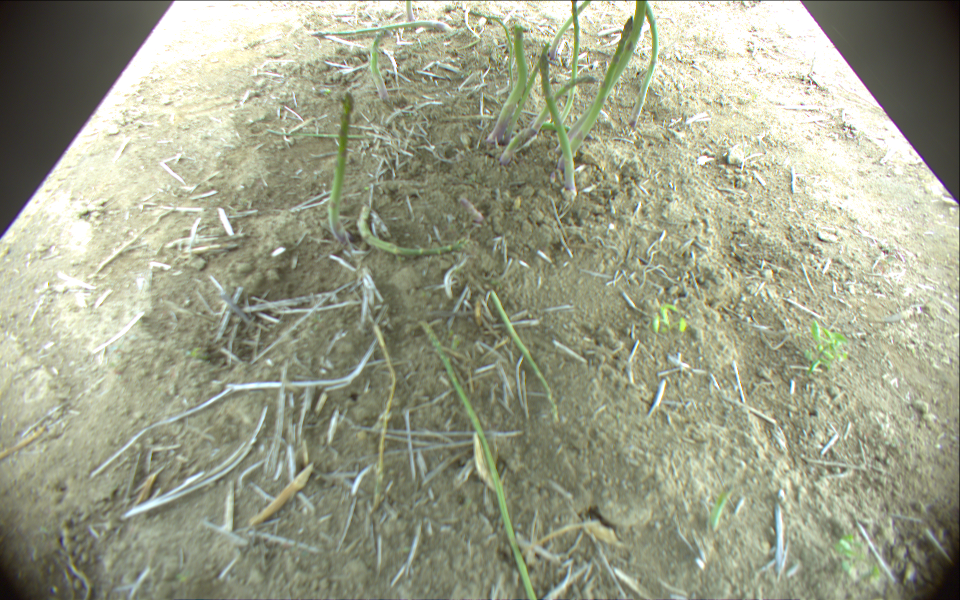aspa: (423, 323, 539, 600), (558, 1, 647, 167), (555, 17, 633, 153), (491, 293, 566, 421), (499, 74, 600, 166), (539, 48, 579, 195), (354, 205, 455, 258), (486, 27, 526, 142), (329, 91, 356, 250), (464, 8, 515, 87), (500, 59, 539, 143), (632, 1, 658, 127), (558, 1, 579, 121), (304, 20, 450, 37), (549, 1, 591, 58), (369, 31, 391, 101), (405, 1, 415, 22)
